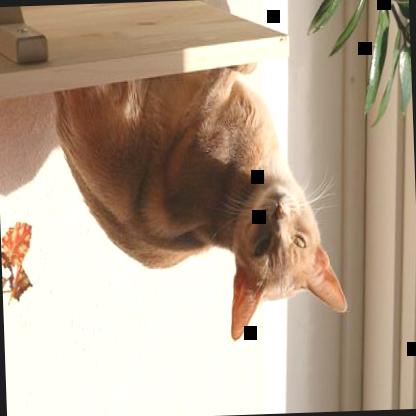cat: (52, 60, 349, 347)
